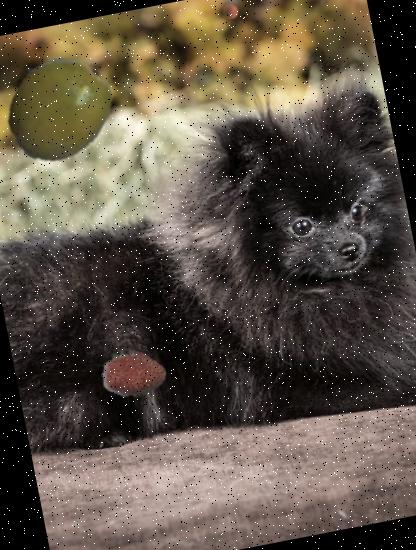Maracuja: (0, 44, 122, 173)
Strawberry: (96, 336, 172, 412)
